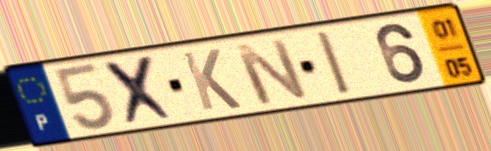5: (50, 60, 119, 133)
6: (373, 21, 430, 86)
I: (312, 28, 356, 98)
K: (178, 46, 245, 113)
N: (230, 36, 313, 108)
X: (99, 52, 182, 129)
